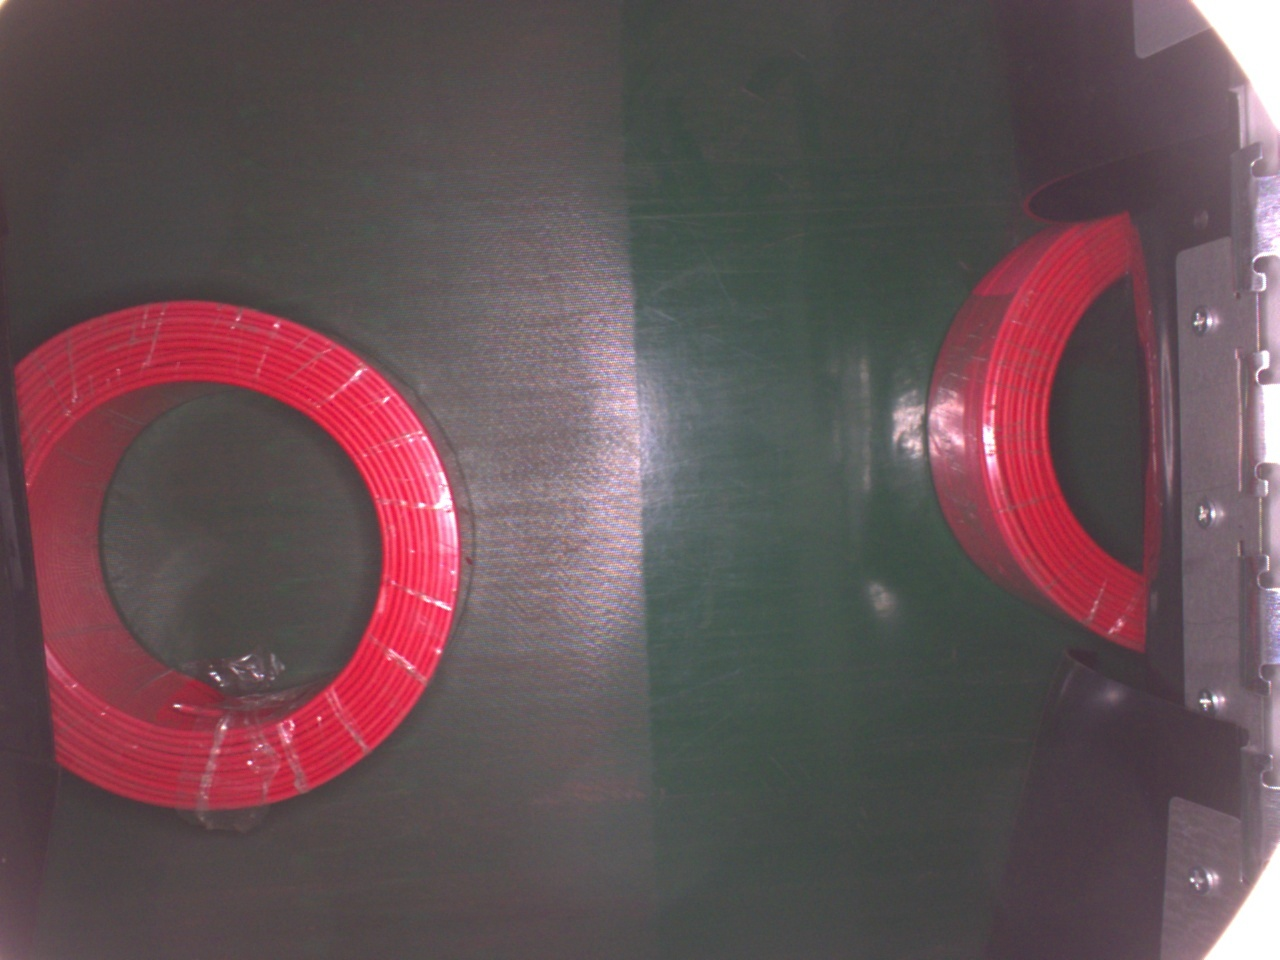red: (12, 296, 473, 812), (923, 204, 1151, 656)
